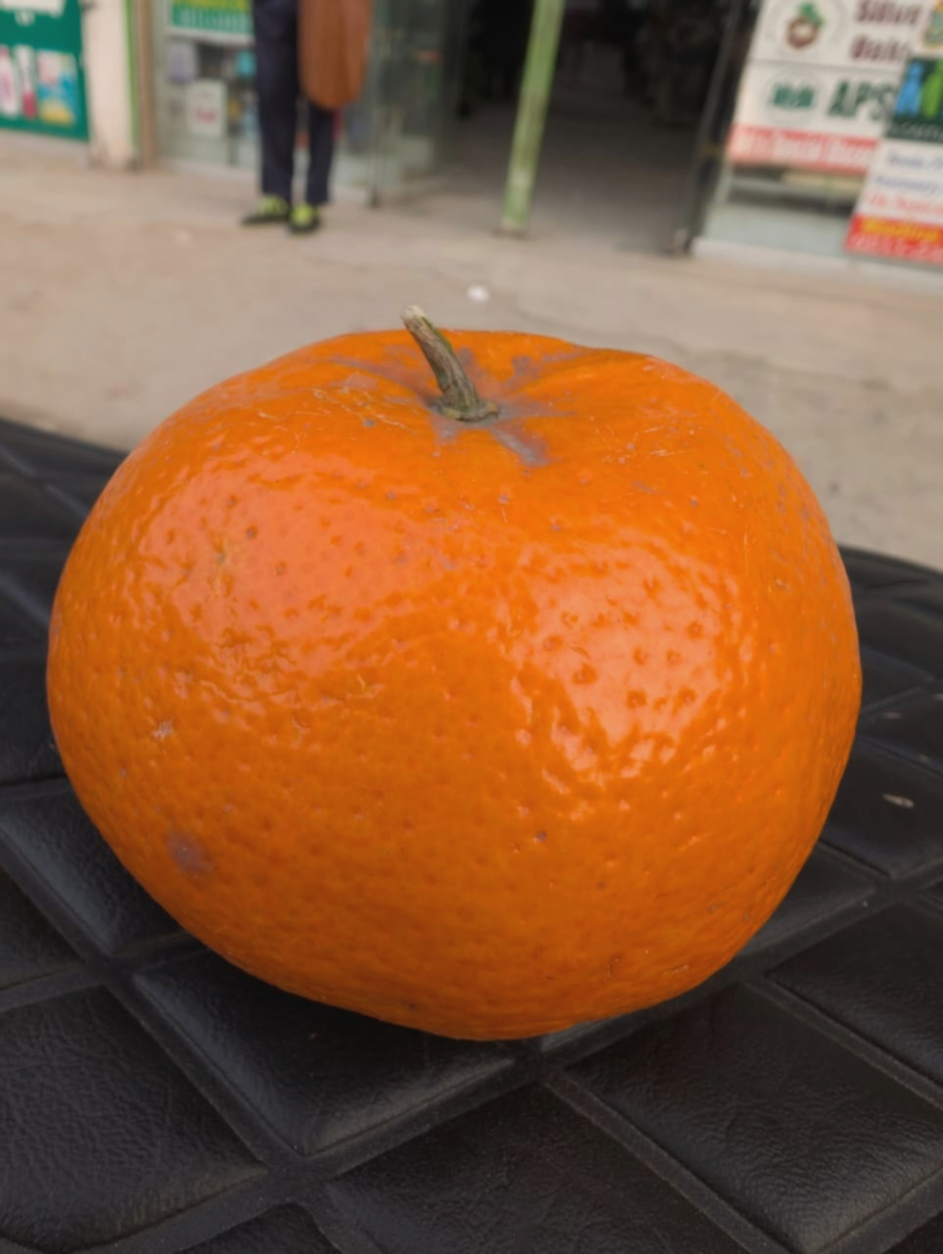orange: (71, 109, 900, 955)
